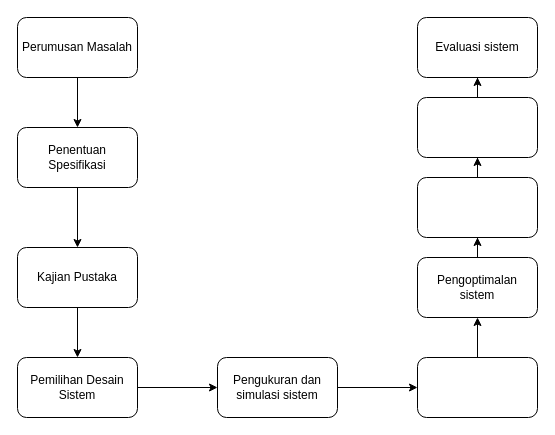
Some shapes in this 555 by 435 pixel diagram are drawn without their labels. Here are the shapes that lost their labels. From the top down, the centre of each, then its label:
At pixel 477 127: "Pengukuran dan analisis sistem akhir".
At pixel 477 207: "Realisasi sistem".
At pixel 477 387: "Analisis Sistem".
